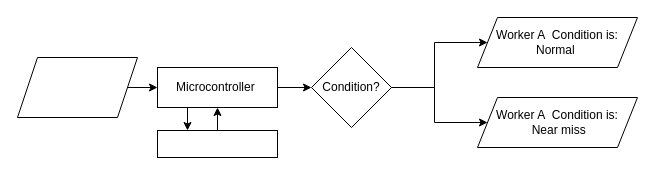
Image size: 655x175. Some labels were removed from this diagram. Each missing label, with the centre of its shape:
"AI Model" belongs at (217,144).
"Gyroscope and Accelerometer sensor" belongs at (77,87).
